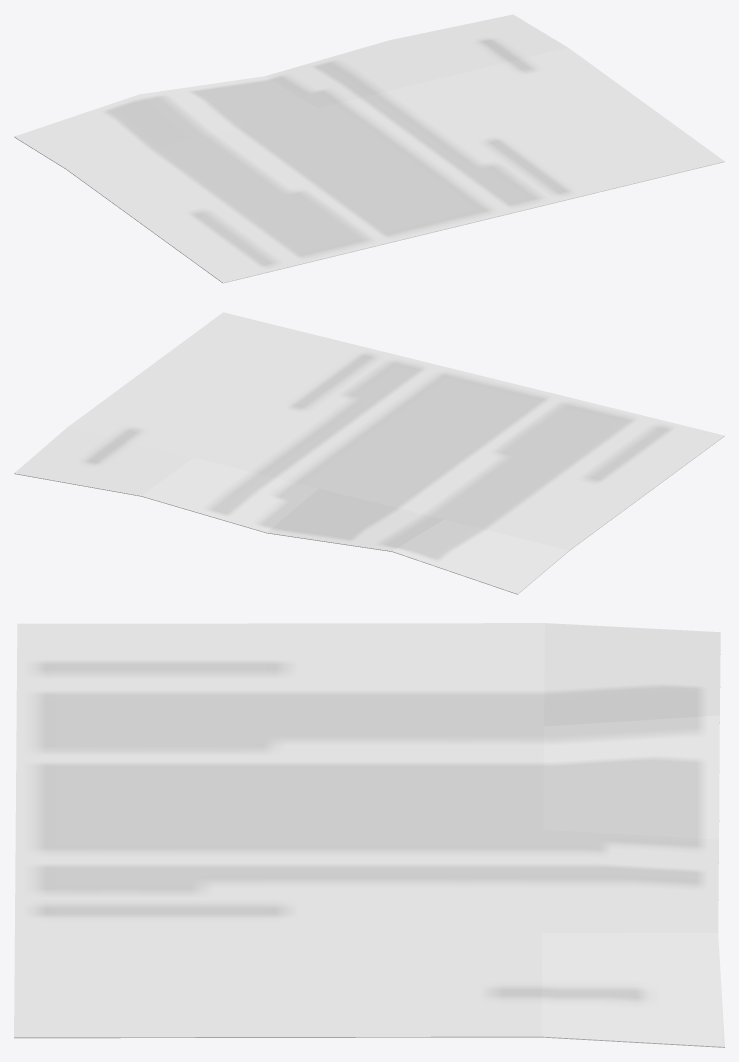
File: Paper09.fbx
3 renders of one model, top to bottom at view 1: azimuth 30°, elevation 25°; view 2: azimuth 150°, elevation 25°; view 3: azimuth 270°, elevation 25°, orthographic. The views are drawn at different scales.
Visible parts, largest first — view 1: Paper09; view 2: Paper09; view 3: Paper09.
Boxes of the visible parts, left/top/right/bottom form: Paper09: left=14, top=14, right=724, bottom=283; Paper09: left=14, top=312, right=724, bottom=594; Paper09: left=14, top=623, right=724, bottom=1047.
Bounding box in the file's own units: 0.337 × 0.2443 × 0.00854.
